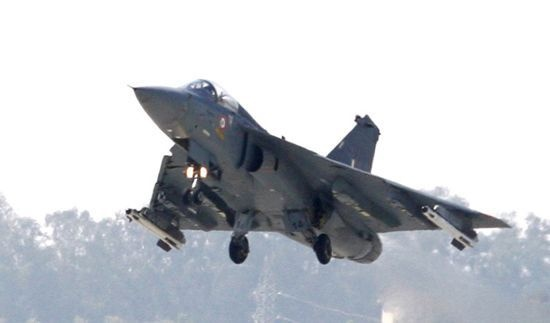airplane: (111, 78, 515, 262)
